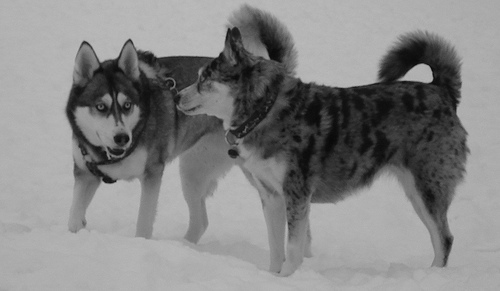dog: (170, 23, 470, 280), (64, 3, 314, 259)
